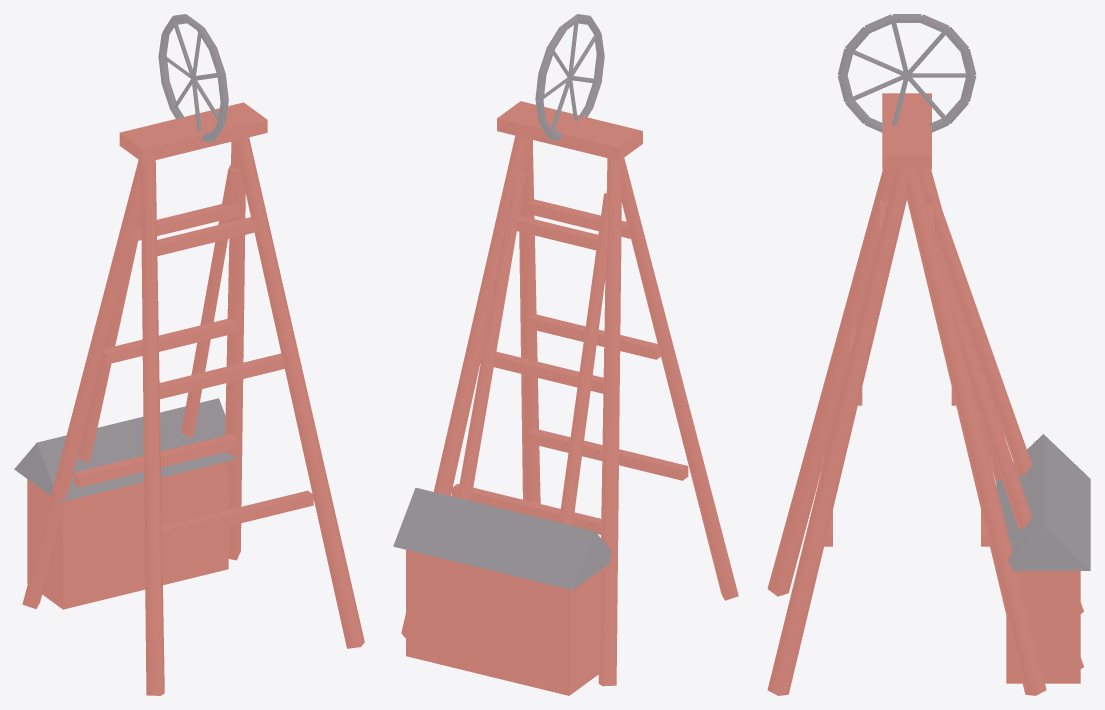
File: Blender_MineHead.glb
3 views of the same model, side by side, from view 1: azimuth 30°, elevation 25°; view 2: azimuth 150°, elevation 25°; view 3: azimuth 270°, elevation 25° (orthographic). The views are drawn at different scales.
Parts seen in each view (by area): view 1: Blender_MineHead; view 2: Blender_MineHead; view 3: Blender_MineHead.
Boxes of the visible parts, x1,y1,x2,y2 form: Blender_MineHead: (14,14,364,695); Blender_MineHead: (393,14,738,695); Blender_MineHead: (767,14,1090,695).
Bounding box in the file's own units: 5.28 × 14.02 × 6.51.
